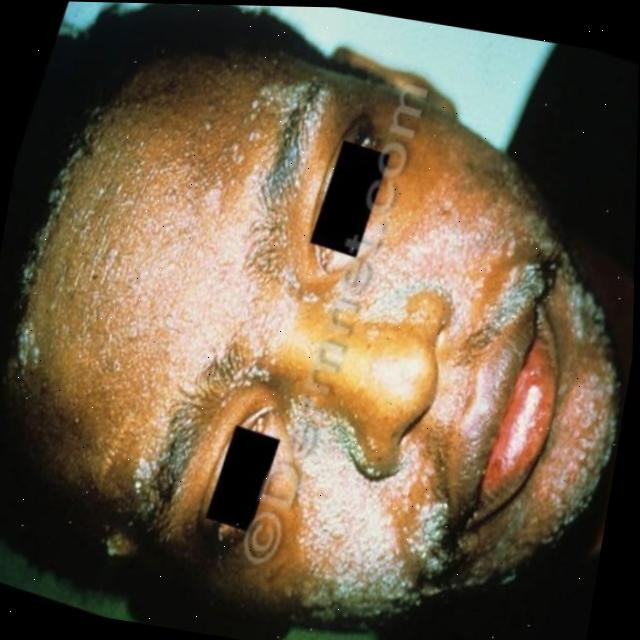Shingles: (114, 47, 336, 502), (248, 417, 449, 621), (491, 251, 557, 335)
